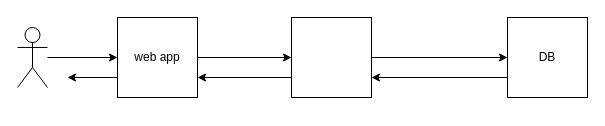
Image size: 605x126. Some labels were removed from this diagram. Each missing label, with the centre of its shape:
"Actor" belongs at point 32,57.
"API" belongs at point 331,57.
